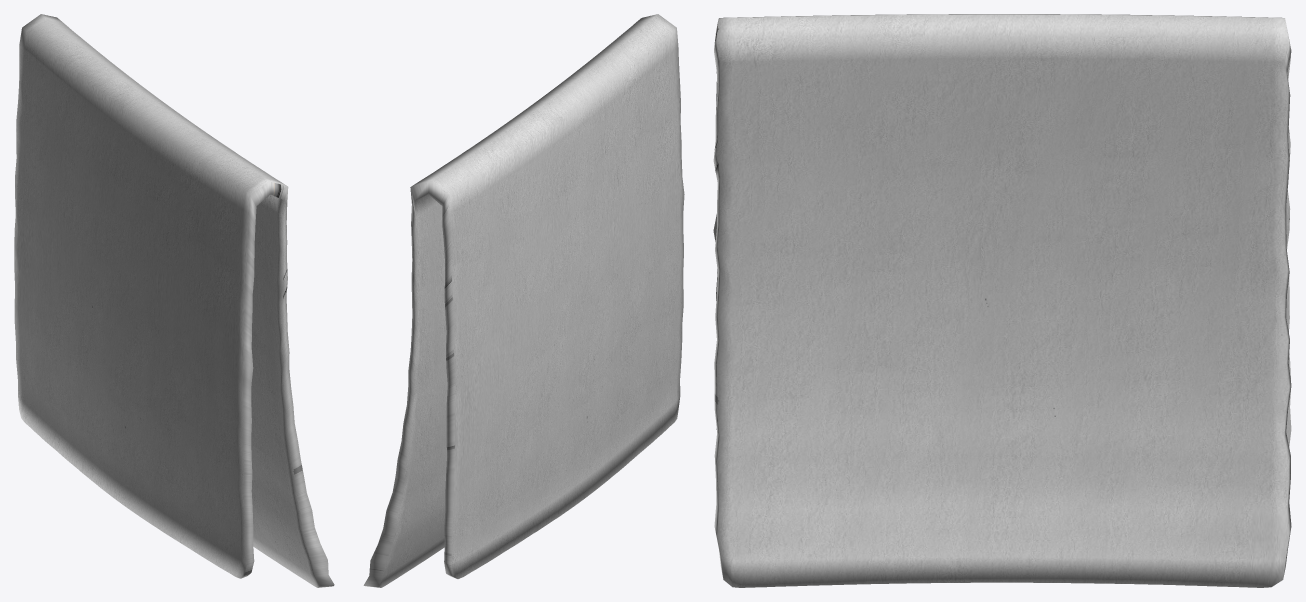
Rendered from WC_Towel.fbx.
3 renders of one model, left to right at view 1: azimuth 30°, elevation 25°; view 2: azimuth 150°, elevation 25°; view 3: azimuth 270°, elevation 25°, orthographic. The views are drawn at different scales.
Visible parts, largest first — view 1: Towel; view 2: Towel; view 3: Towel.
Part boxes in pixels (x1,y1,x2,y2): Towel: (14,14,334,587); Towel: (363,14,684,587); Towel: (713,14,1291,587).
Size of the model in its own units: 13.74 by 52.35 by 51.93.
1 material, 1 textured.
